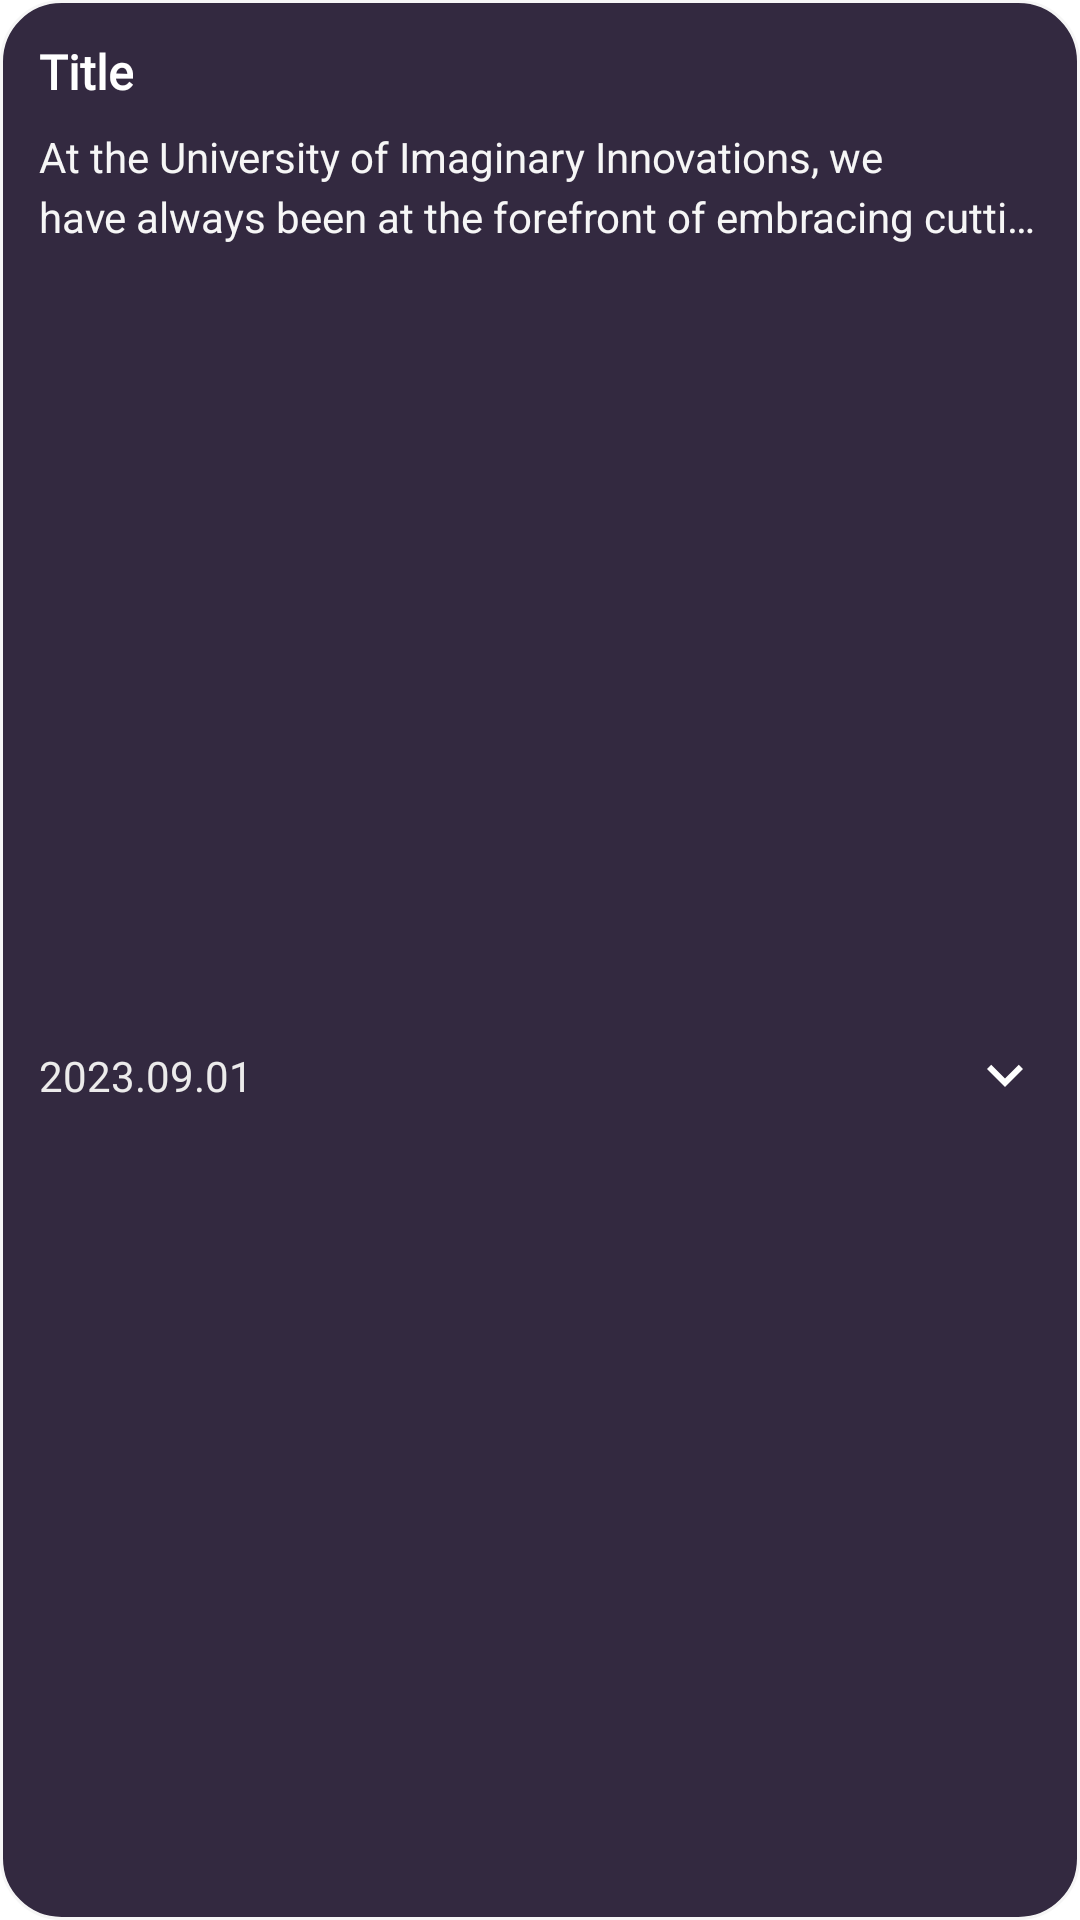

Icons on this 1080w x 1920h Android screen, each with its box as (x1, y1, x2, y2):
expand more: (987, 1065, 1023, 1087)
